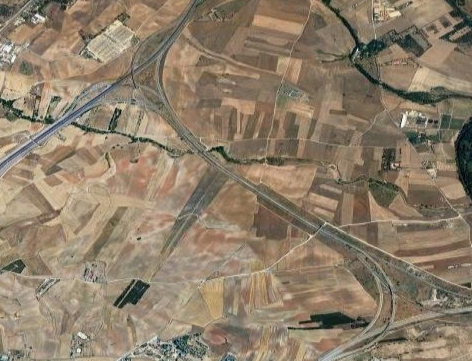motorway: (109, 71, 293, 220), (288, 205, 472, 354), (1, 82, 112, 180), (111, 1, 217, 84)
